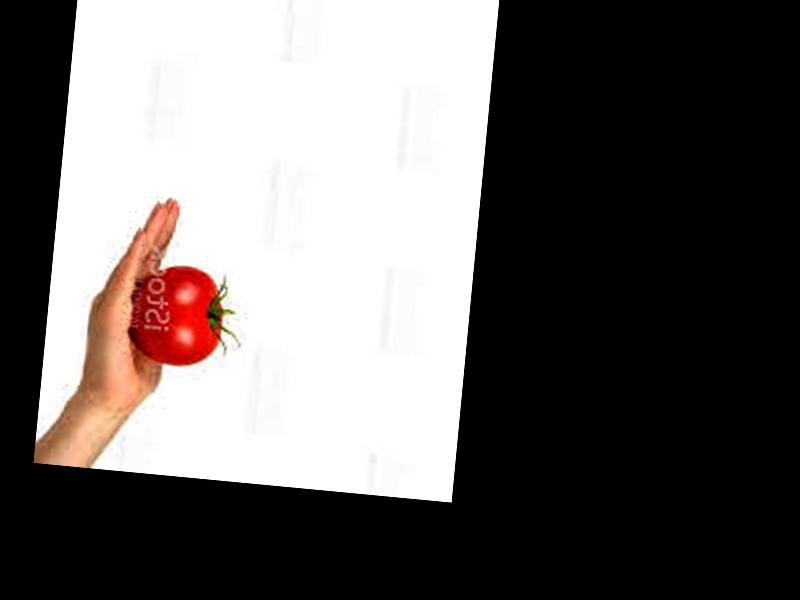Tomato: (128, 263, 228, 369)
